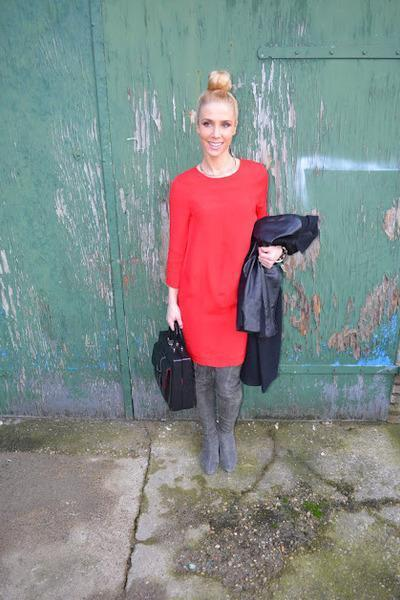bag: (151, 324, 196, 411)
dress: (166, 159, 267, 366)
jacket: (236, 214, 319, 392)
shoe: (194, 362, 248, 467)
